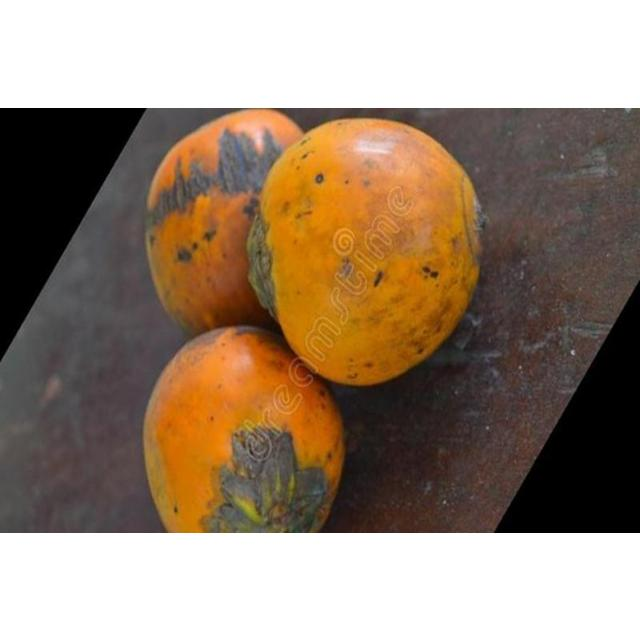good: (249, 117, 481, 388), (142, 325, 345, 532), (145, 109, 305, 339)
